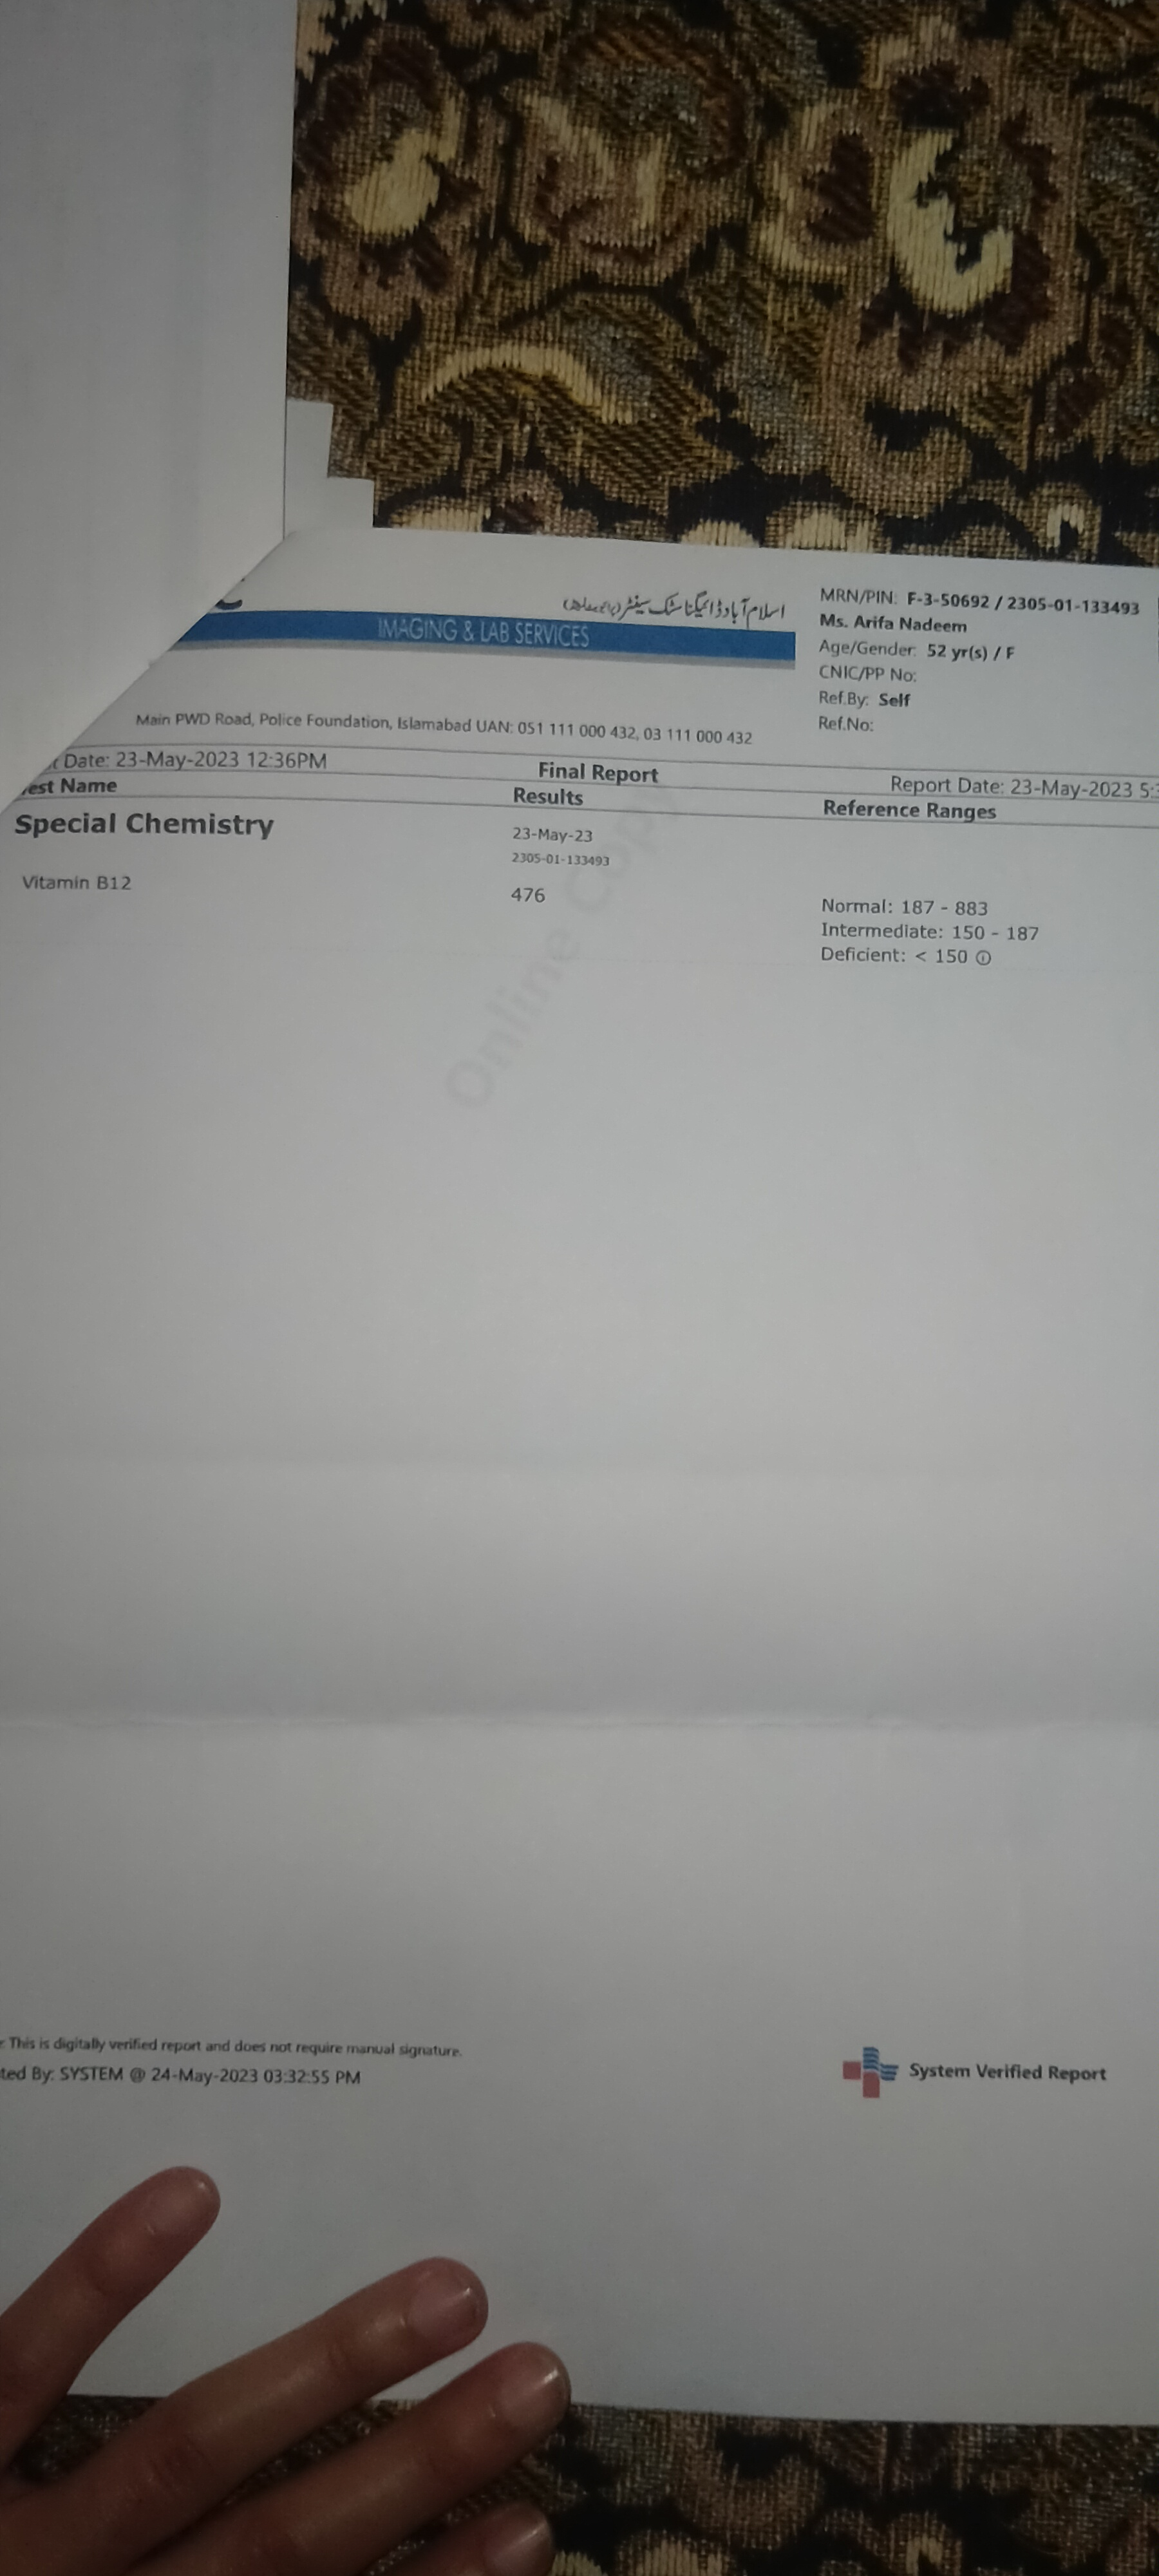report: (10, 743, 1159, 1022)
